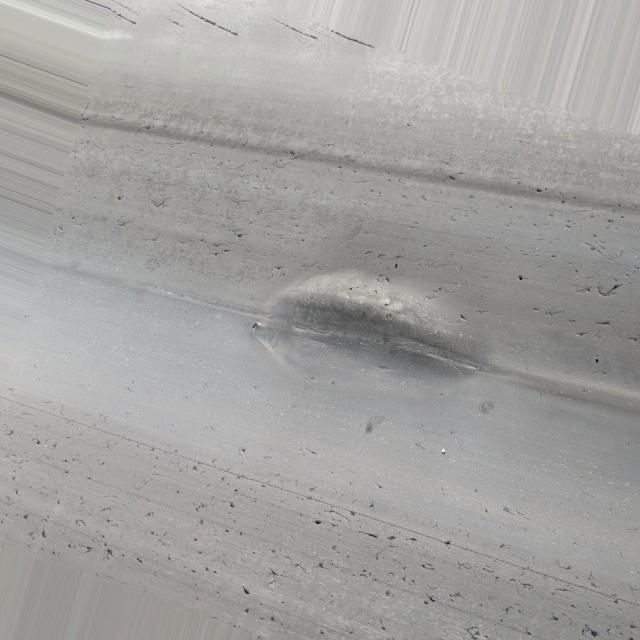Impact Damage: (255, 264, 490, 398)
Puncture: (602, 276, 622, 298), (150, 192, 169, 210), (580, 626, 602, 640), (238, 584, 252, 598), (266, 566, 282, 578), (102, 546, 115, 560), (441, 536, 454, 550), (424, 594, 438, 607), (574, 329, 588, 342), (602, 216, 617, 226), (232, 229, 244, 241), (446, 172, 458, 184), (456, 311, 468, 323), (533, 186, 545, 198), (267, 612, 279, 624), (514, 272, 527, 283), (310, 518, 324, 528), (313, 560, 327, 570), (30, 436, 44, 446), (219, 526, 233, 536), (38, 530, 50, 540), (188, 566, 198, 578), (272, 262, 284, 272), (210, 249, 222, 259), (242, 604, 252, 616), (134, 555, 144, 566), (367, 501, 377, 512), (114, 194, 126, 203), (226, 500, 236, 510), (384, 534, 396, 542), (141, 124, 153, 132), (392, 260, 401, 270), (22, 511, 30, 522), (346, 509, 358, 516), (238, 447, 247, 456), (192, 535, 200, 544)
